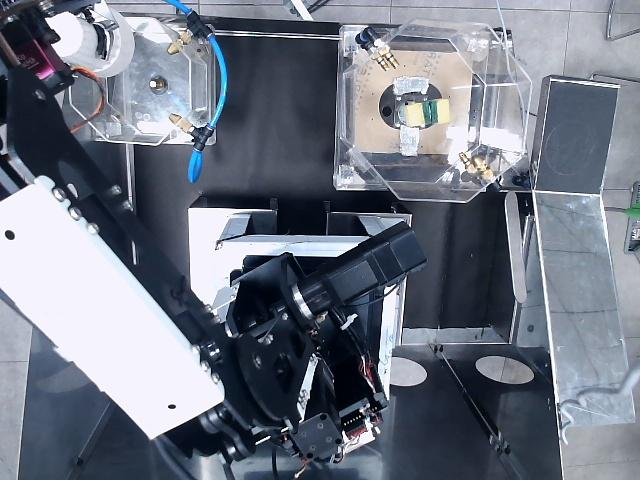cup: (47, 11, 133, 76)
